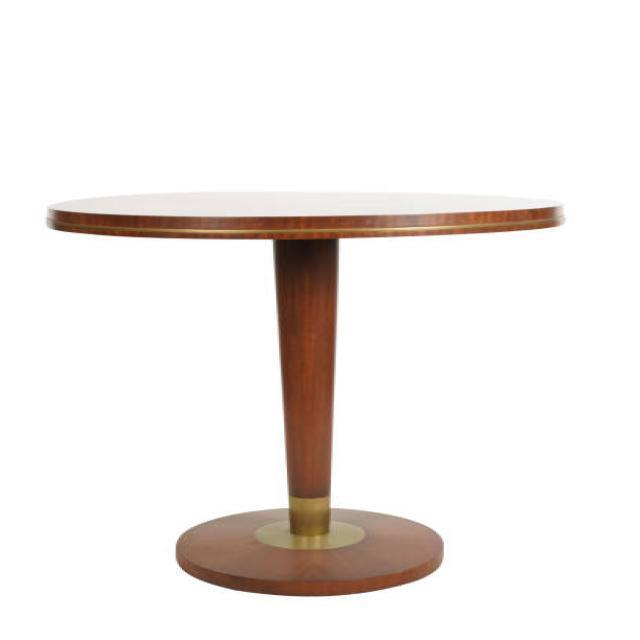table: (44, 189, 565, 596)
